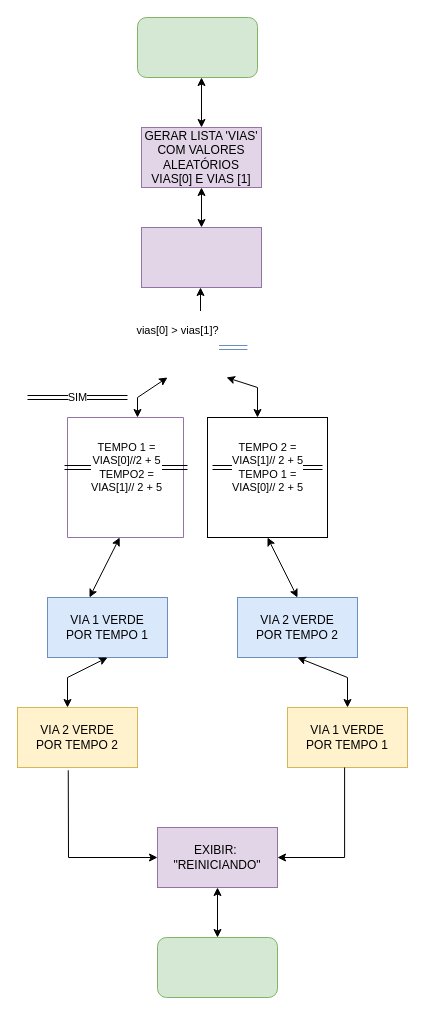
This 425x1015 diagram has some shape labels left out. The box of each missing label's shape, as (x1, y1, x2, y2) in pixels:
INICIO: (136, 16, 258, 78)
MOSTRAR QUANTIDADE DE CARROS NAS DUAS VIAS: (140, 226, 262, 288)
VOLTA AO INICIO (WHILE TRUE): (156, 936, 278, 998)
